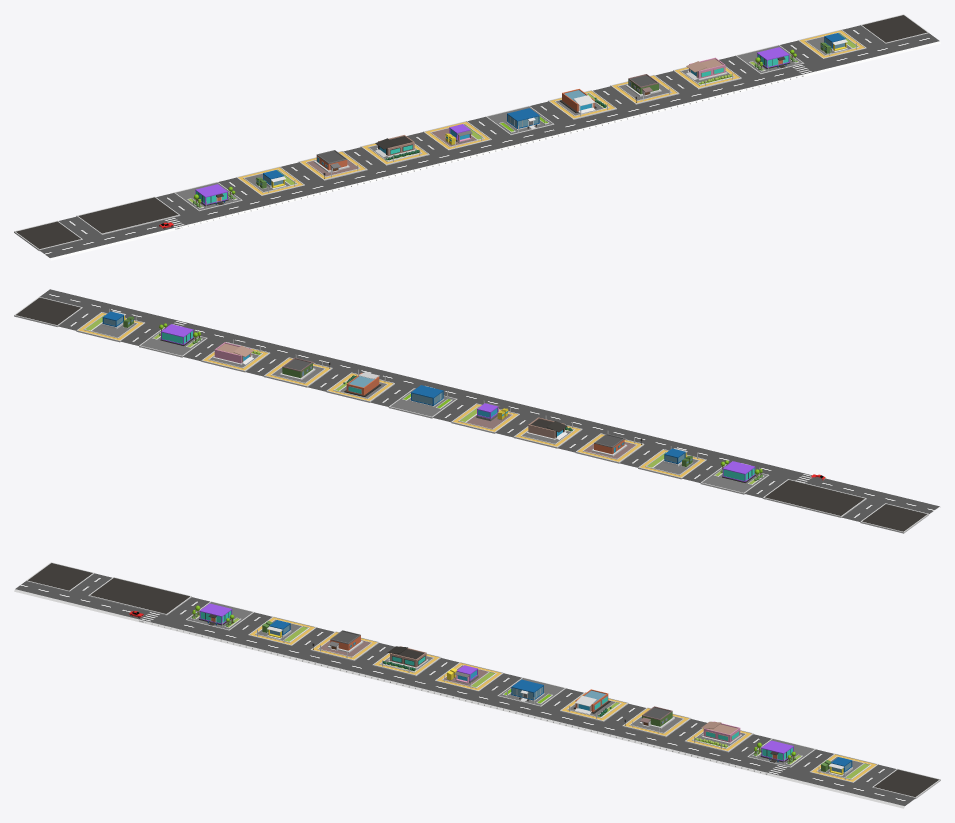
The model's file is kinematics-scene.glb.
The picture shows the model from 3 angles, top to bottom: view 1: azimuth 30°, elevation 25°; view 2: azimuth 150°, elevation 25°; view 3: azimuth 330°, elevation 25°; orthographic projection.
Parts seen in each view (by area): view 1: road; view 2: road; view 3: road.
Part boxes in pixels (left/top/right/bottom): road: left=14, top=14, right=940, bottom=260; road: left=14, top=289, right=940, bottom=533; road: left=14, top=562, right=940, bottom=808.
Size of the model in its own units: 142 by 1.88 by 10.23.
2 materials, 2 textured.
